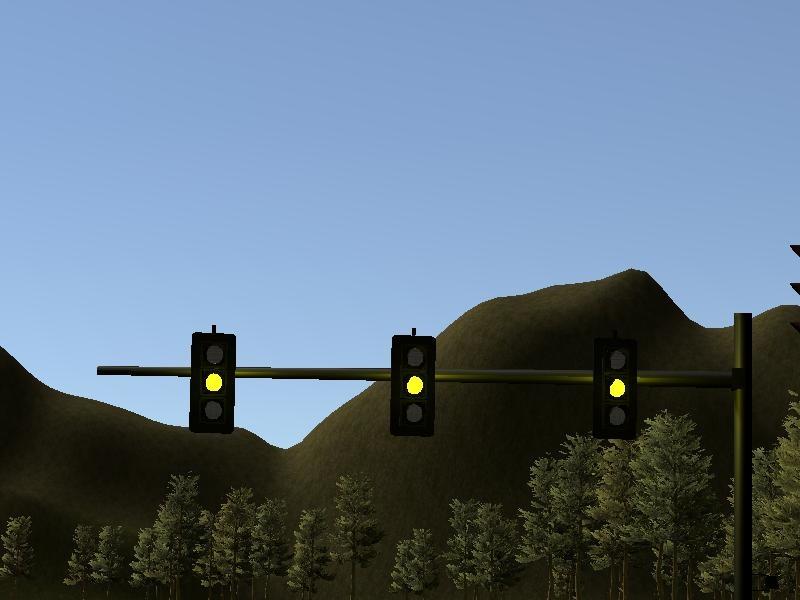Yellow: (386, 331, 439, 439), (187, 328, 238, 436), (590, 335, 640, 442)
